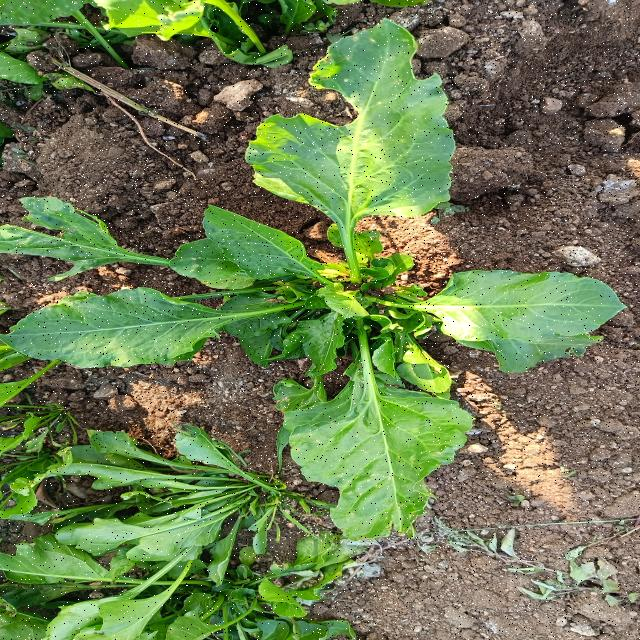leaves: (218, 32, 552, 297), (275, 304, 495, 550), (1, 257, 336, 397), (348, 246, 640, 403), (1, 184, 220, 300), (179, 201, 343, 296)
